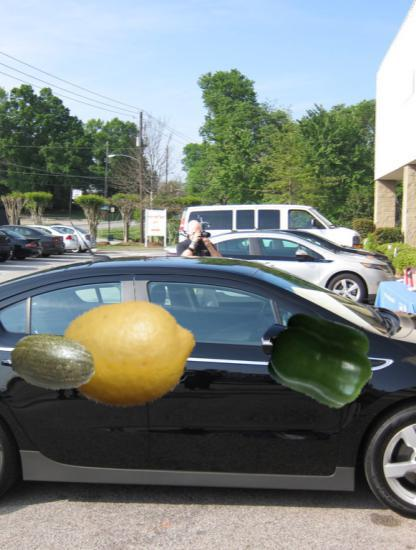Lemon: (58, 285, 197, 424)
Melon: (10, 319, 97, 406)
Pepper: (266, 306, 375, 415)
